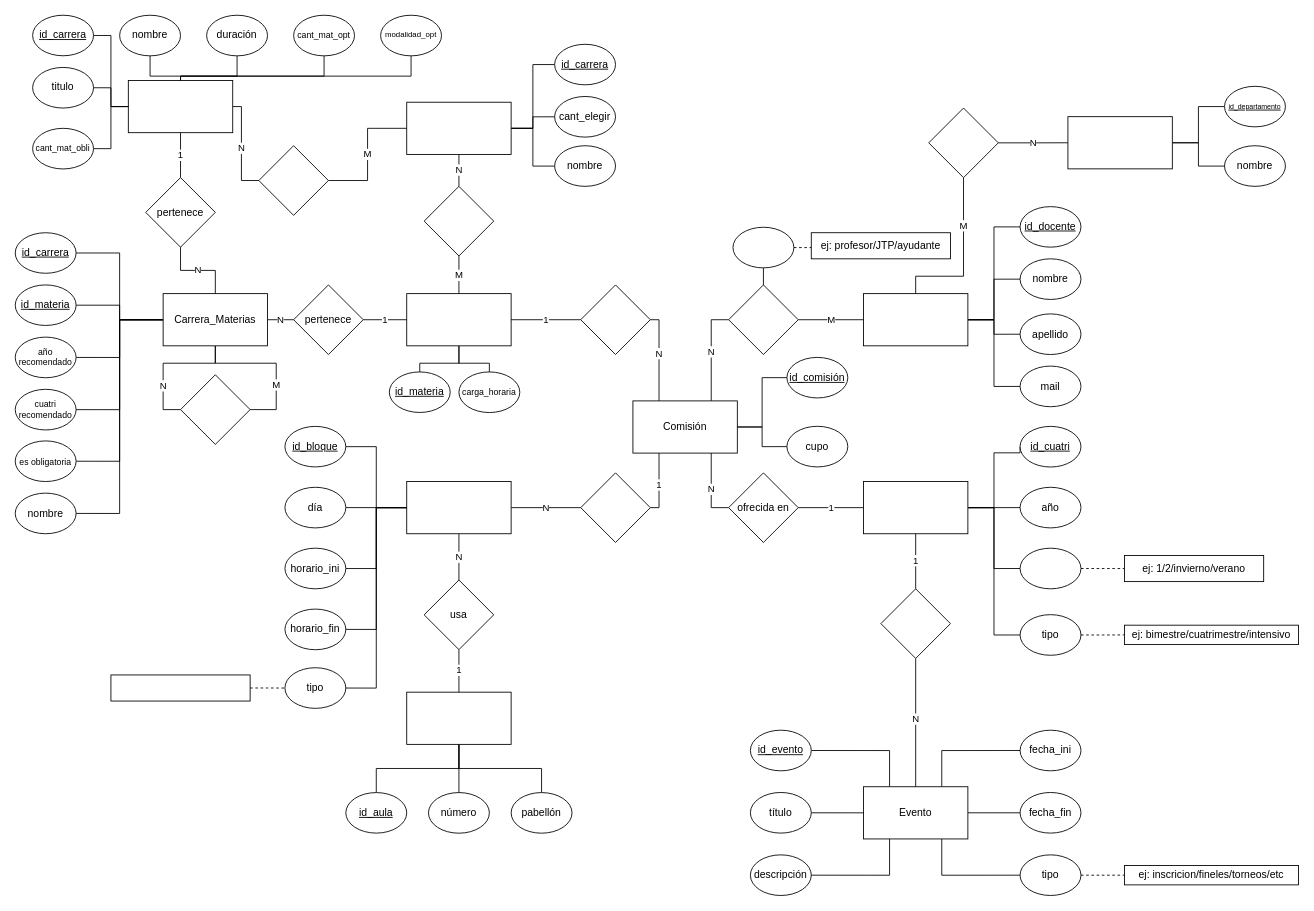
This 1314x911 diagram has some shape labels left out. The shapes that lost their labels are listed below. From the top down, each one's box as (x1, y1, x2, y2) in pixels, then its label:
(127, 80, 233, 133): Carrera
(406, 101, 511, 154): Grupo_Optativo
(1067, 116, 1172, 169): Departamento
(732, 226, 794, 268): rol
(406, 293, 511, 346): Materia
(580, 284, 650, 355): pertenece a
(728, 284, 798, 355): dictada por
(863, 293, 968, 346): Docente
(180, 374, 250, 444): correlativa
(406, 481, 511, 534): Bloque_Horario
(580, 472, 650, 542): dictada en
(863, 481, 968, 534): Cuatrimestre
(1019, 547, 1081, 589): periodo
(880, 588, 950, 658): ocurre
(110, 674, 250, 701): ej: teórica/práctica/laboratorio
(406, 691, 511, 744): Aula
